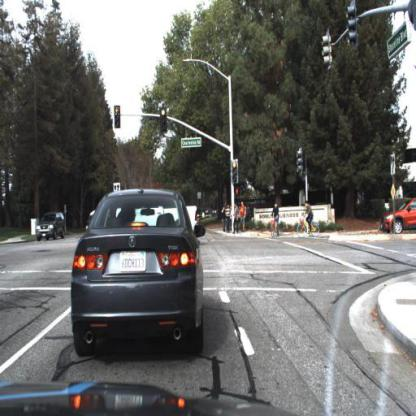biker: (294, 199, 321, 241), (268, 202, 283, 240)
car: (71, 187, 206, 357), (378, 198, 416, 235)
pedestrian: (233, 199, 243, 239), (240, 200, 249, 234), (239, 201, 248, 232), (221, 204, 227, 238), (225, 202, 231, 232)
trafficLight-Red: (231, 158, 239, 184), (160, 107, 167, 134)
trafficLight-RedLeft: (114, 103, 122, 128)
